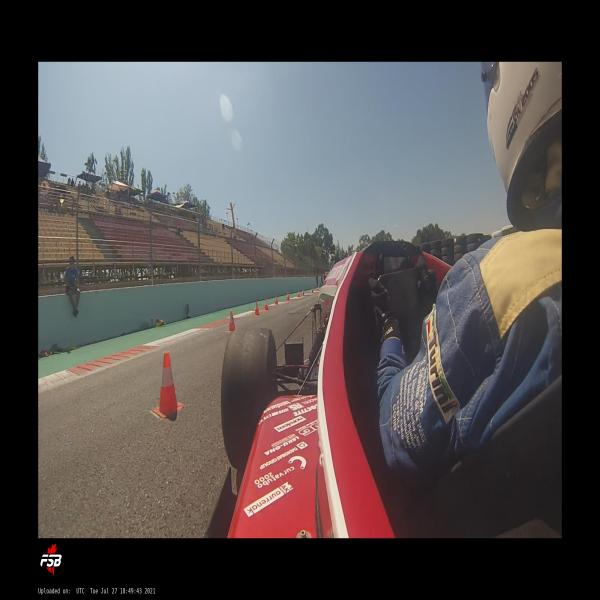orange_cone: (152, 351, 184, 418), (228, 311, 235, 332), (255, 301, 260, 316), (264, 299, 269, 310), (275, 295, 278, 305), (287, 292, 290, 301), (302, 289, 305, 296), (298, 290, 300, 298), (312, 288, 313, 293)
yellow_cone: (160, 319, 166, 326), (156, 317, 160, 327)
